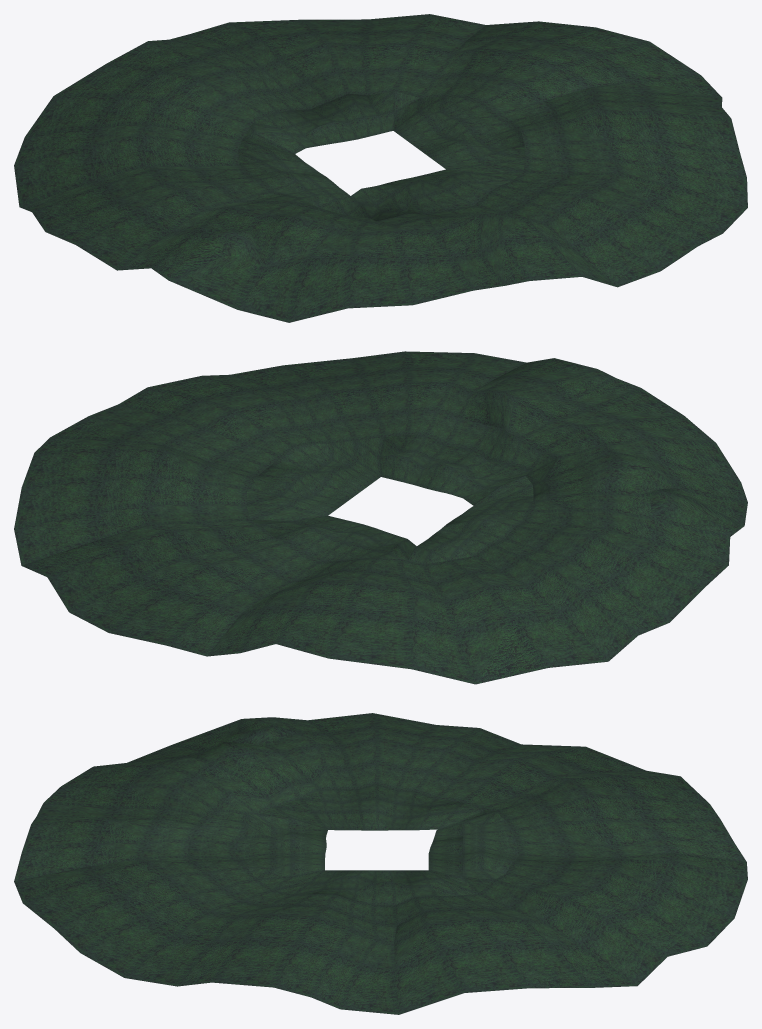
File: st_030_back_forest.fbx
3 views of the same model, one above another, from view 1: azimuth 30°, elevation 25°; view 2: azimuth 150°, elevation 25°; view 3: azimuth 270°, elevation 25° (orthographic). The views are drawn at different scales.
Parts seen in each view (by area): view 1: st_030_back_forest; view 2: st_030_back_forest; view 3: st_030_back_forest.
Boxes of the visible parts, left/top/right/bottom form: st_030_back_forest: left=14, top=14, right=747, bottom=322; st_030_back_forest: left=14, top=351, right=747, bottom=684; st_030_back_forest: left=14, top=713, right=747, bottom=1014.
Size of the model in its own units: 1699 by 153 by 1722.
